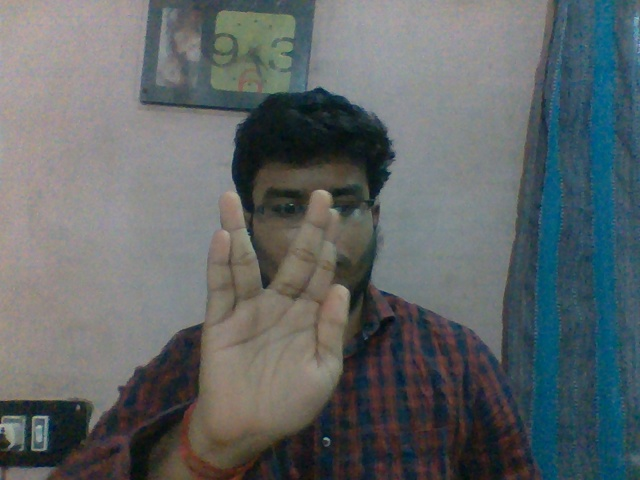LiveLong: (198, 186, 350, 459)
